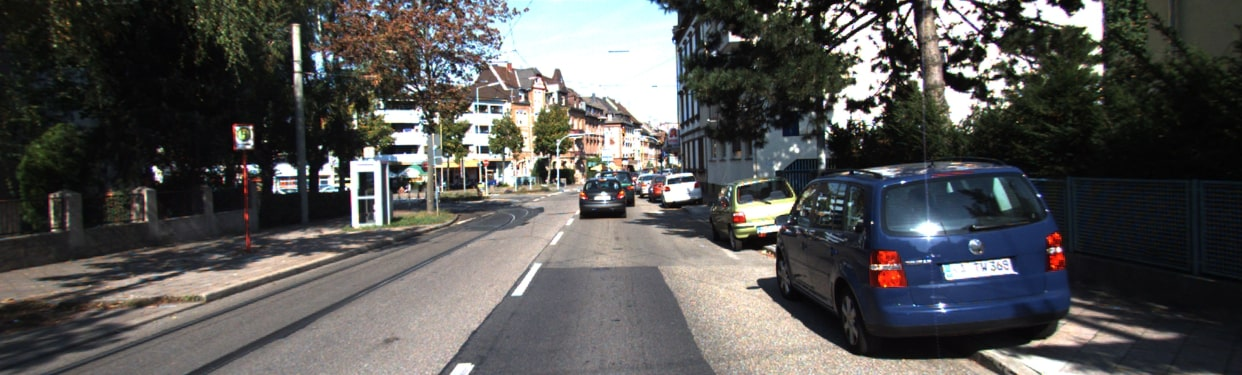car: (774, 153, 1055, 355), (709, 173, 787, 247), (582, 178, 625, 224), (663, 167, 703, 205), (639, 173, 658, 195)
